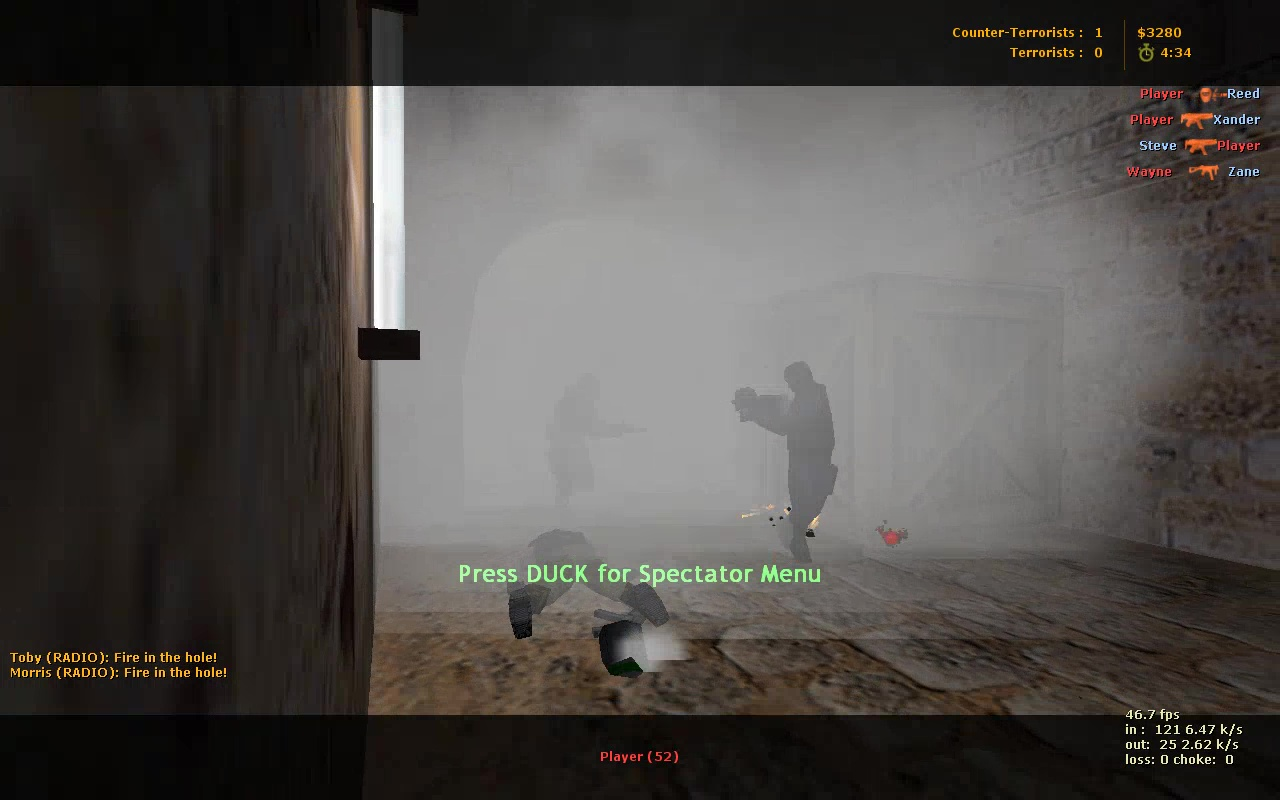ct: (738, 359, 841, 569)
dead: (508, 528, 672, 627)
